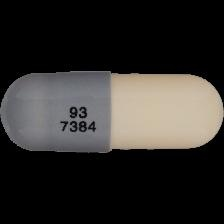58118-0095: (0, 0, 224, 224)
